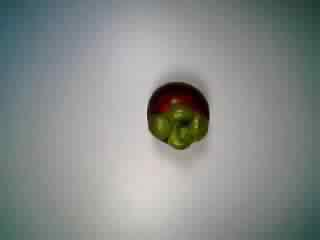mangosteen: (133, 80, 214, 155)
